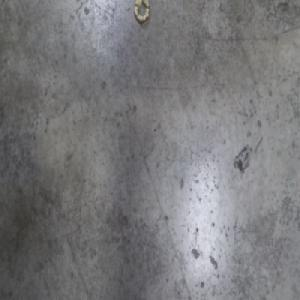Nut: (134, 0, 151, 26)
